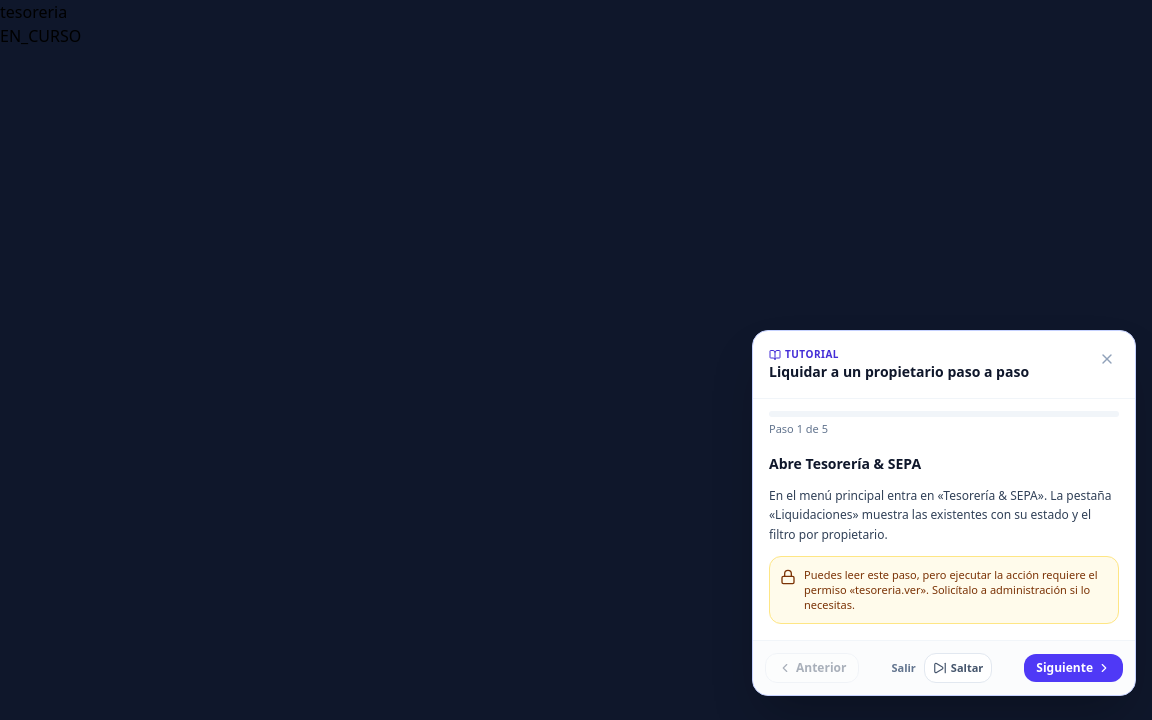
Test: §6 · TutorialPlayer (tutorial real de liquidaciones) › permiso insuficiente: el gestor lee el paso pero ve el aviso RBAC; la capa no habilita nada
Expected: the text "tesoreria.ver" is shown, [804, 567, 1098, 612]
Click the button "Siguiente". click: (1074, 668)
box: [1024, 654, 1123, 682]
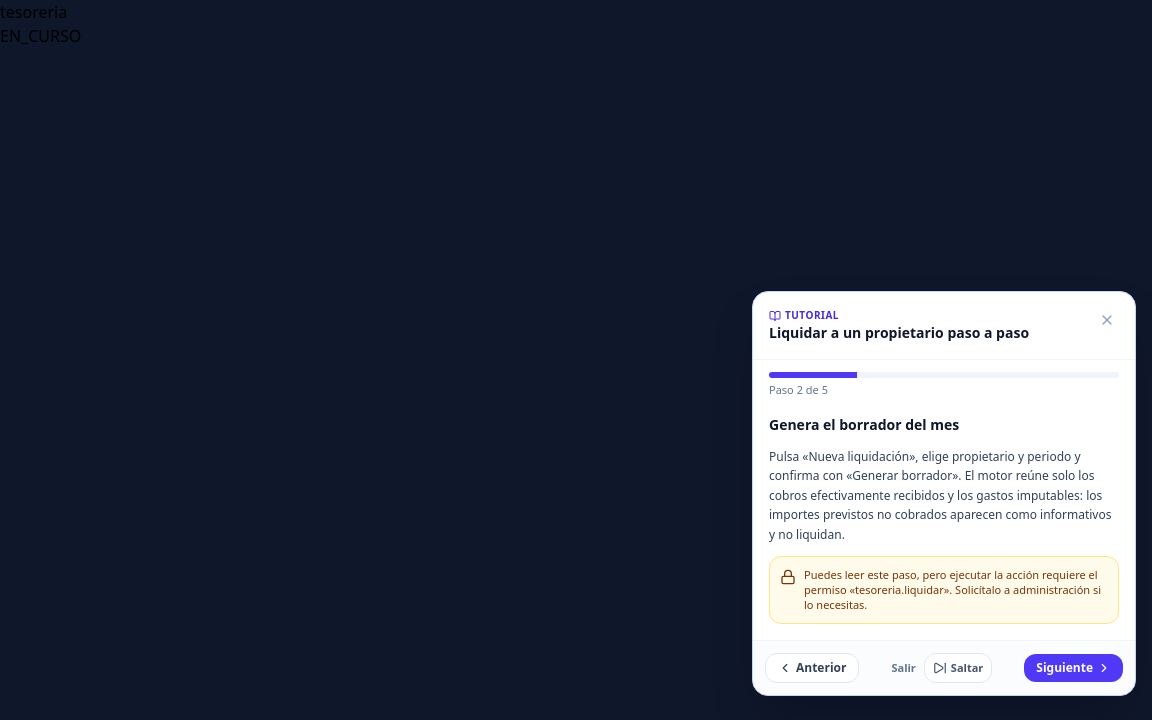
Now the text "tesoreria.liquidar" is shown, box [804, 567, 1101, 612]
